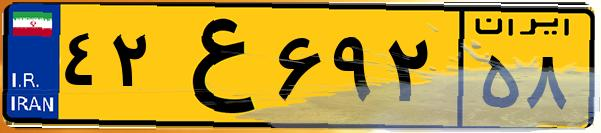2: (385, 28, 445, 110), (110, 28, 158, 98)
4: (57, 26, 110, 100)
5: (475, 38, 525, 113)
6: (270, 28, 330, 110)
8: (525, 38, 570, 115)
9: (330, 28, 385, 110)
ع: (158, 12, 270, 120)
